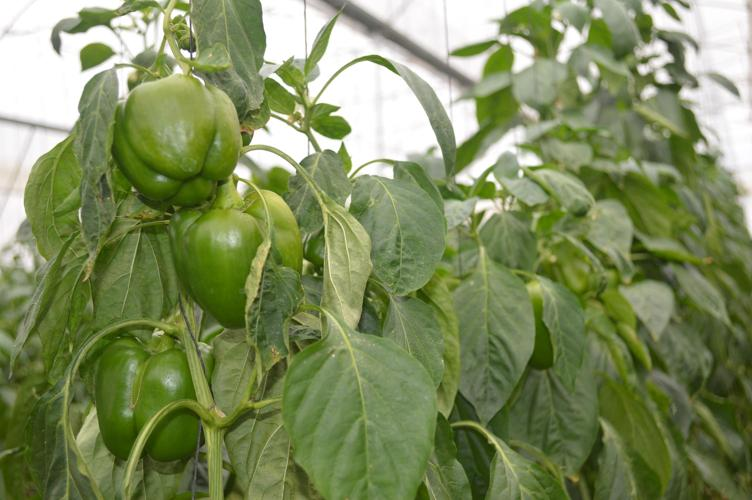BellPepper: (161, 188, 300, 330), (112, 71, 242, 210), (95, 338, 212, 460)
